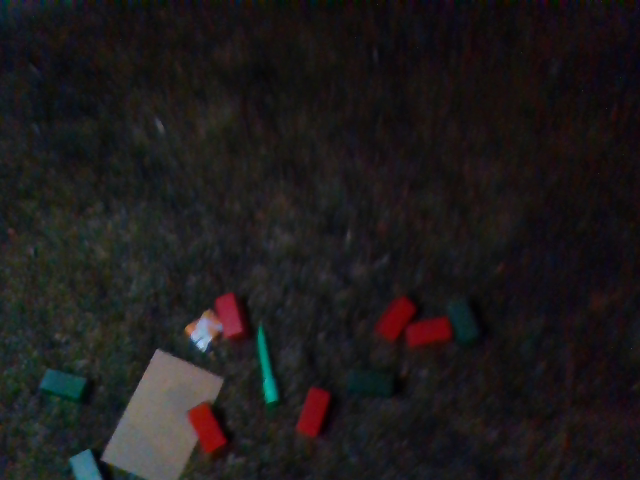Probe: (253, 321, 283, 406)
